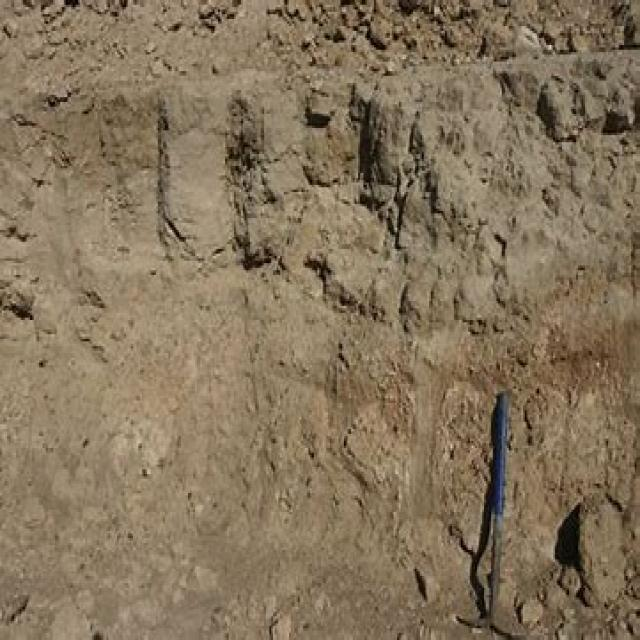Alluvial Soil: (15, 40, 473, 576)
